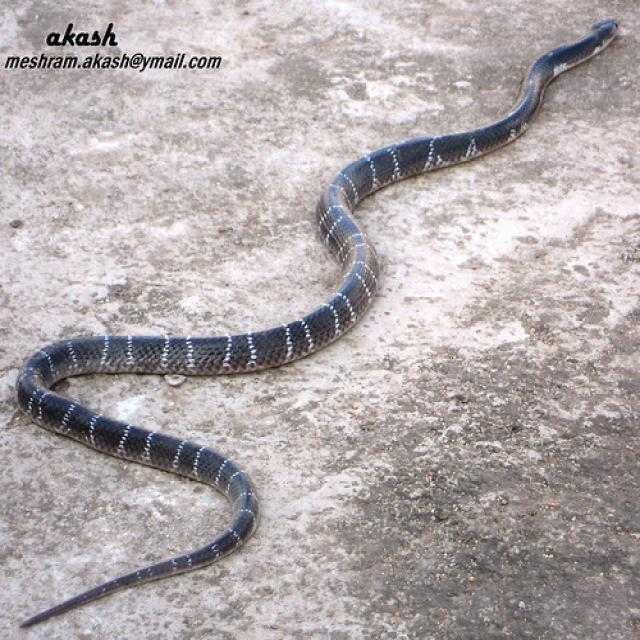Snake: (13, 11, 624, 633)
